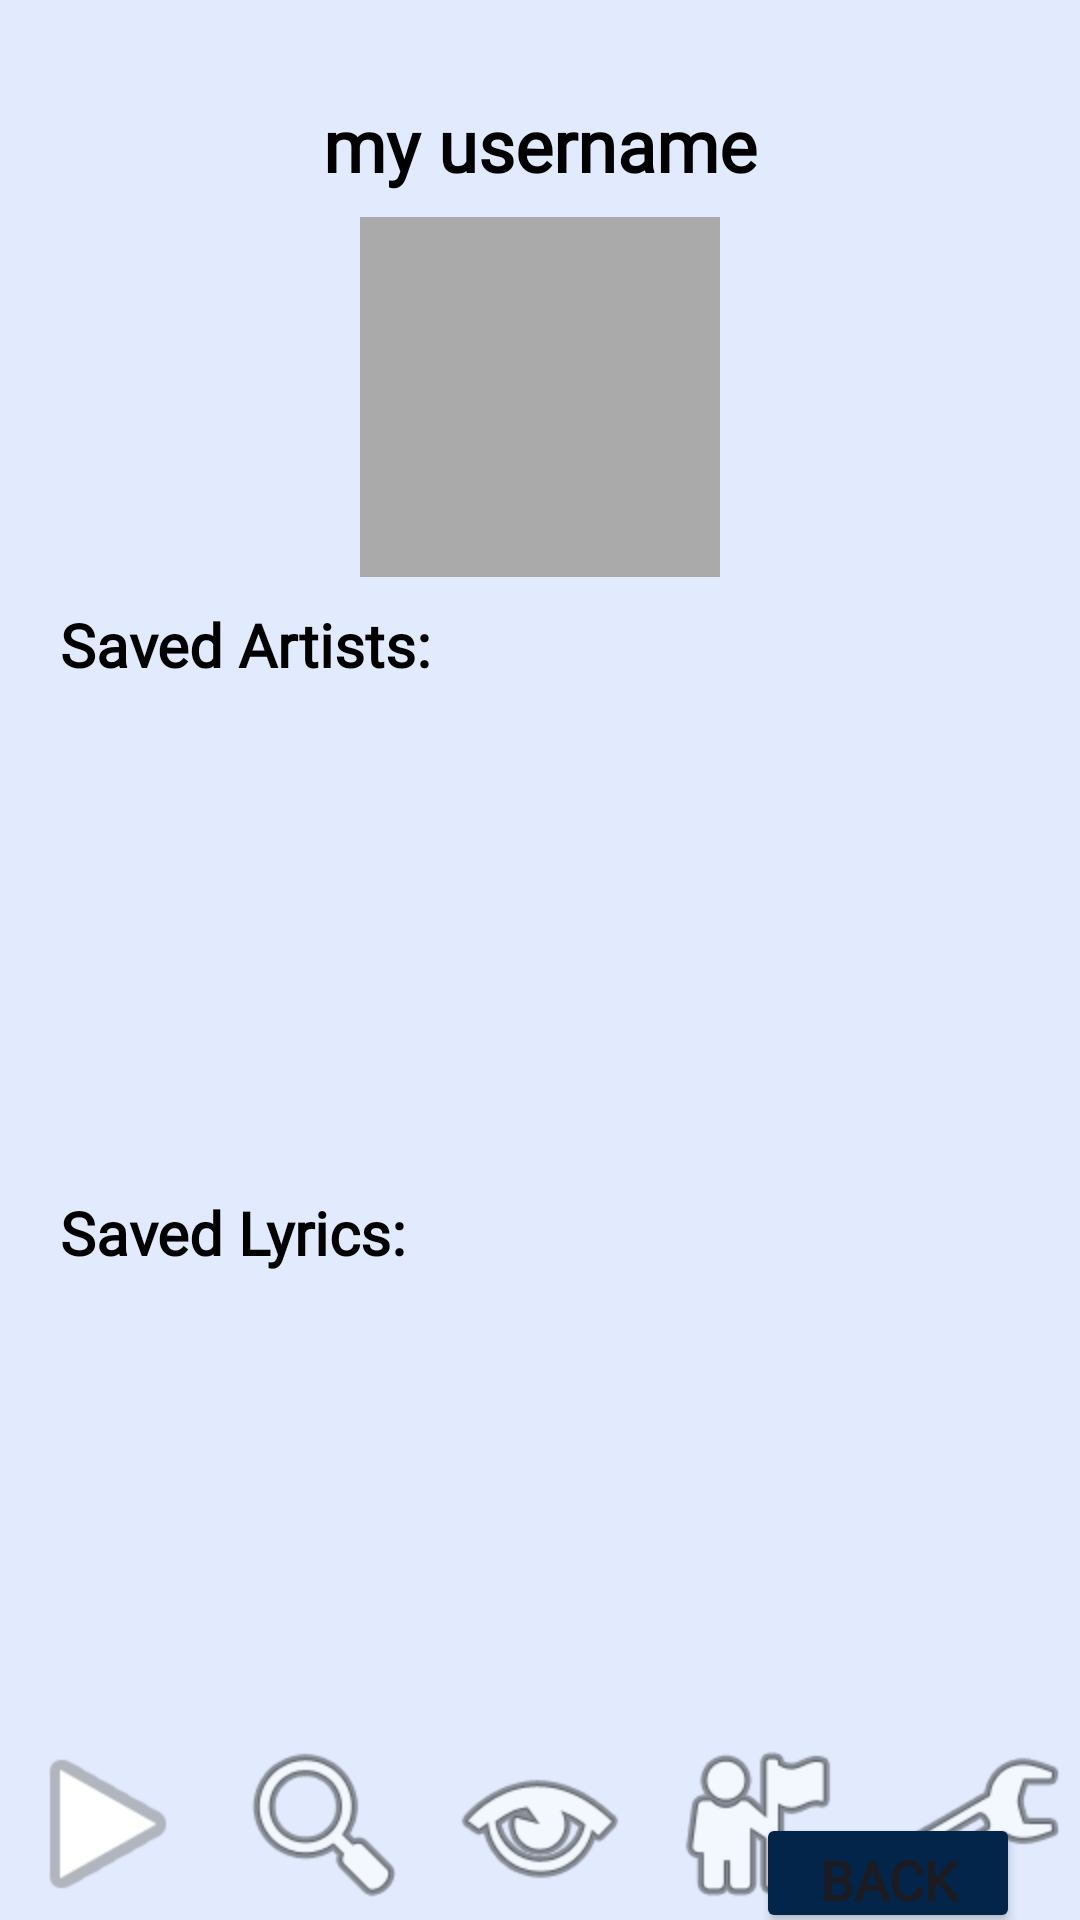

Icons on this 1080w x 1920h Android screen, each with the point to tap as (x=x, y=y):
Music: (x=108, y=1824)
Search: (x=324, y=1825)
